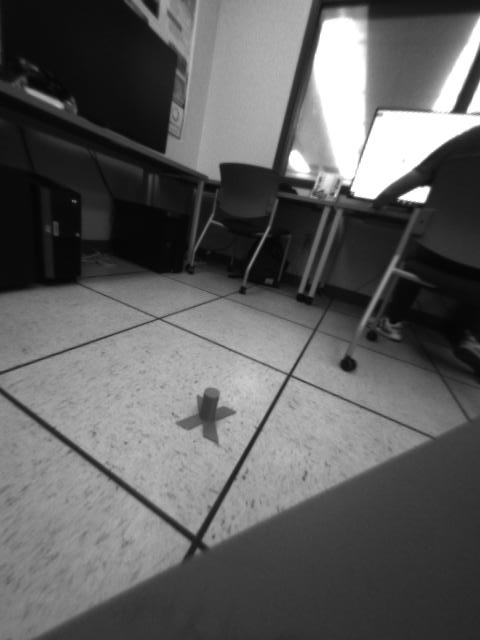X: (176, 387, 236, 446)
